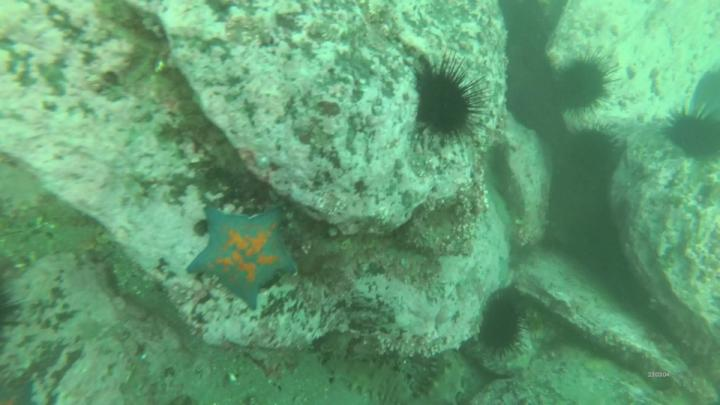echinus: (417, 69, 469, 136), (556, 63, 610, 111), (562, 130, 615, 176), (669, 115, 720, 160), (482, 302, 522, 353)
holothurian: (326, 357, 411, 405), (419, 355, 465, 405)
starfish: (181, 209, 298, 308)
